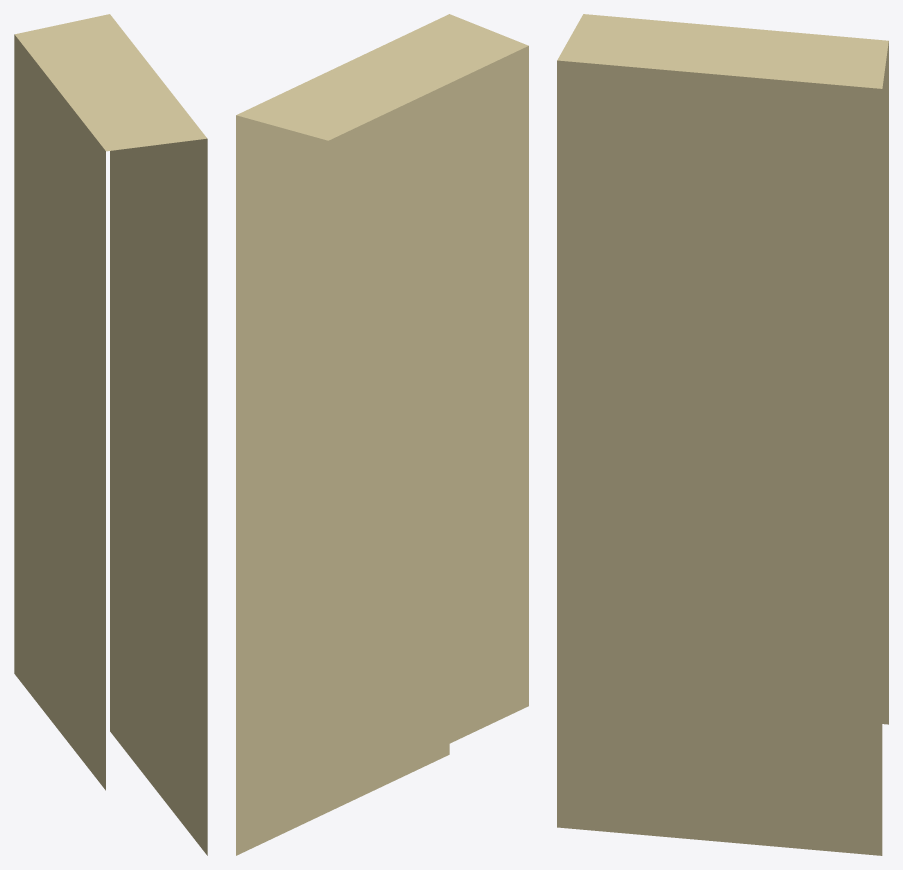
File: wall29.fbx
The picture shows the model from 3 angles, left to right: view 1: azimuth 30°, elevation 25°; view 2: azimuth 150°, elevation 25°; view 3: azimuth 270°, elevation 25°; orthographic projection. The views are drawn at different scales.
Parts seen in each view (by area): view 1: duvar.007; view 2: duvar.007; view 3: duvar.007.
Boxes of the visible parts, x1,y1,x2,y2 form: duvar.007: (14, 14, 207, 855); duvar.007: (236, 14, 528, 855); duvar.007: (557, 14, 888, 855).
Bounding box in the file's own units: 9.43 × 44.99 × 17.64.
